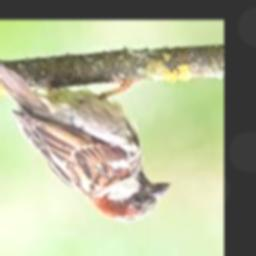Sparrow: (0, 51, 172, 222)
